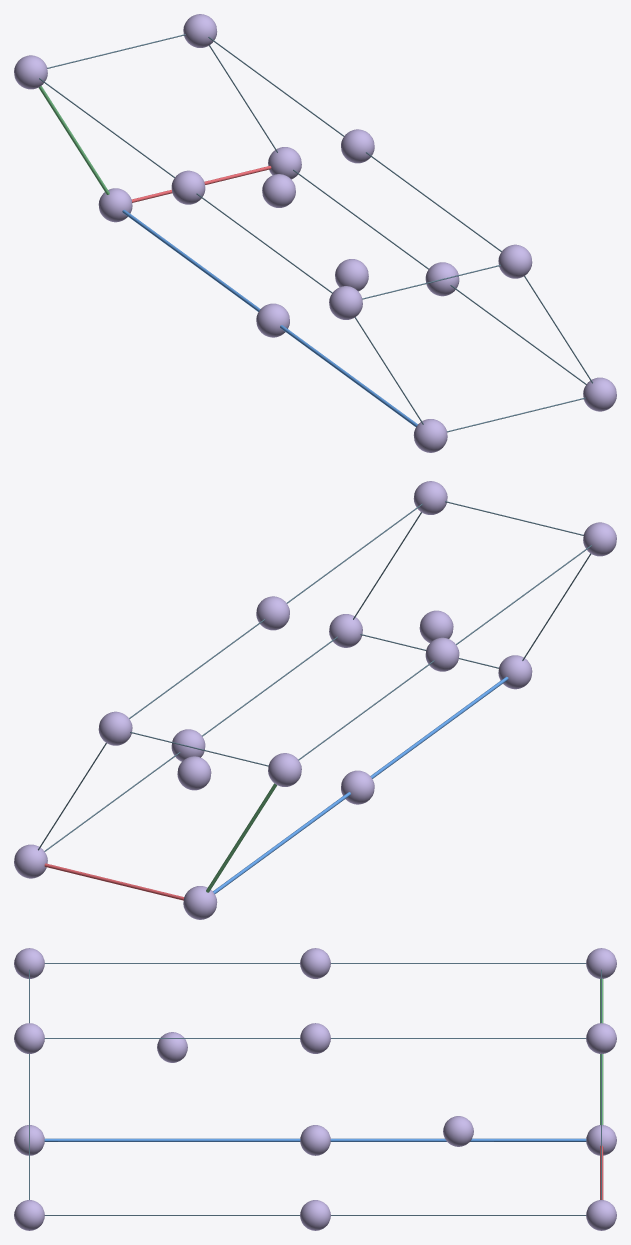
File: nguyen-to-pr.glb
3 views of the same model, one above another, from view 1: azimuth 30°, elevation 25°; view 2: azimuth 150°, elevation 25°; view 3: azimuth 270°, elevation 25° (orthographic). The views are drawn at different scales.
Visible parts, largest first — view 1: Pr1 · Pr · 1 (×12), Ô mạng và các trục a, b, c, Pr2 · Pr · 1 (×2); view 2: Pr1 · Pr · 1 (×12), Ô mạng và các trục a, b, c, Pr2 · Pr · 1 (×2); view 3: Pr1 · Pr · 1 (×12), Ô mạng và các trục a, b, c, Pr2 · Pr · 1 (×2).
Boxes of the visible parts, box(x1,y1,x2,y2) form: Pr1 · Pr · 1 (×12): box(14, 14, 616, 452); Ô mạng và các trục a, b, c: box(39, 34, 592, 432); Pr2 · Pr · 1 (×2): box(262, 174, 368, 291); Pr1 · Pr · 1 (×12): box(14, 481, 616, 919); Ô mạng và các trục a, b, c: box(38, 501, 591, 900); Pr2 · Pr · 1 (×2): box(177, 610, 453, 790); Pr1 · Pr · 1 (×12): box(14, 948, 616, 1230); Ô mạng và các trục a, b, c: box(29, 963, 603, 1215); Pr2 · Pr · 1 (×2): box(157, 1032, 473, 1146).
Bounding box in the file's own units: 6.15 × 3.82 × 12.48.
